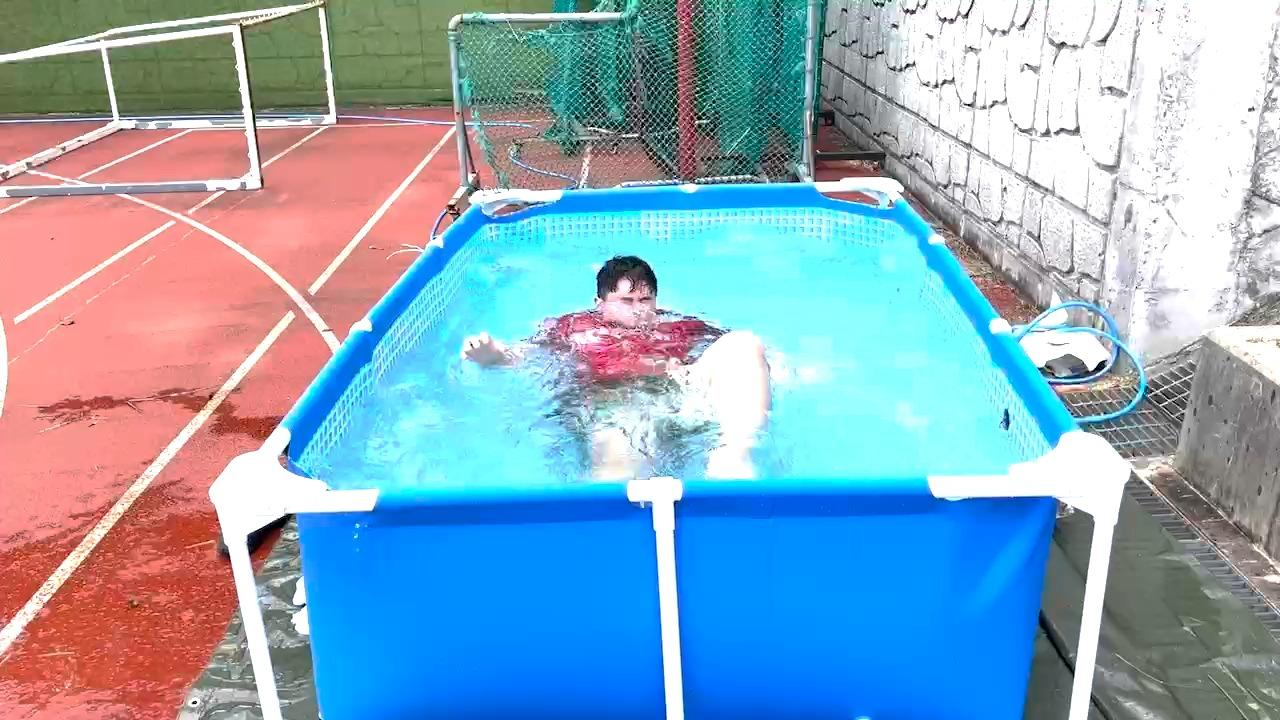Drowning: (471, 254, 780, 481)
